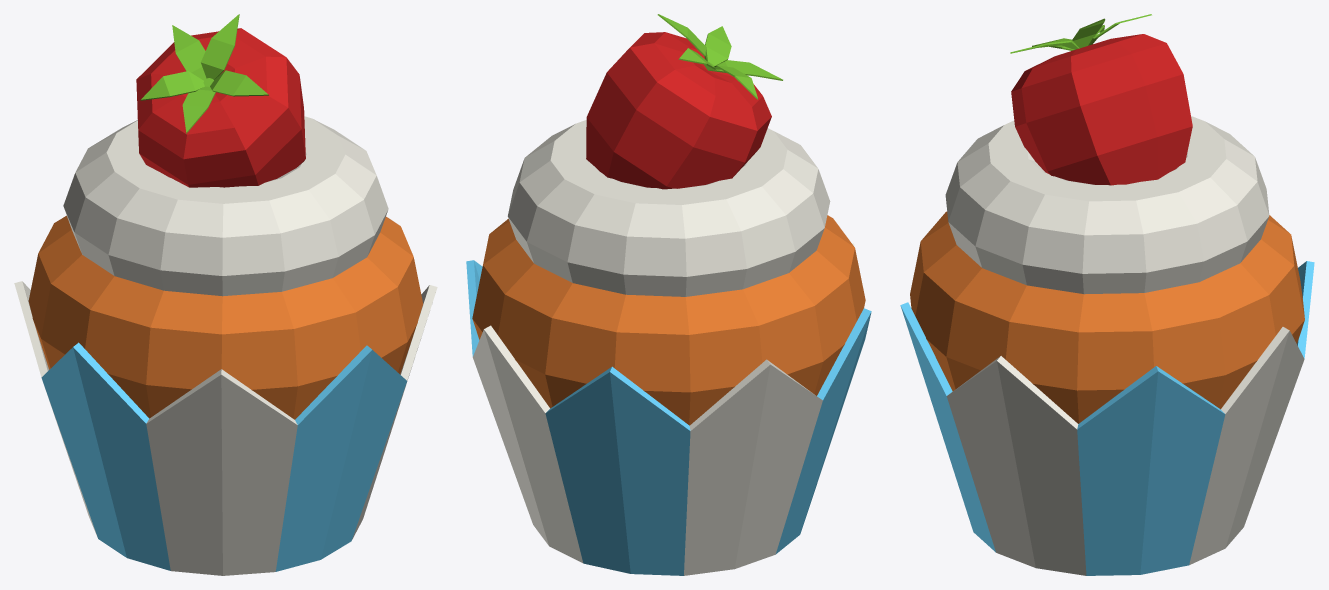
3 renders of one model, left to right at view 1: azimuth 30°, elevation 25°; view 2: azimuth 150°, elevation 25°; view 3: azimuth 270°, elevation 25°, orthographic.
Parts seen in each view (by area): view 1: Keks, keks, Krem, Klubnika; view 2: Keks, keks, Krem, Klubnika; view 3: Keks, keks, Krem, Klubnika.
Boxes of the visible parts, x1,y1,x2,y2 form: Keks: (14, 281, 437, 575); keks: (28, 215, 422, 419); Krem: (63, 116, 388, 296); Klubnika: (136, 14, 305, 187); Keks: (466, 243, 871, 575); keks: (472, 215, 865, 425); Krem: (507, 120, 830, 296); Klubnika: (586, 14, 782, 189); Keks: (900, 261, 1314, 575); keks: (910, 211, 1304, 423); Krem: (945, 116, 1269, 294); Klubnika: (1010, 14, 1192, 185).
Size of the model in its own units: 0.814 by 1.1 by 0.814.
